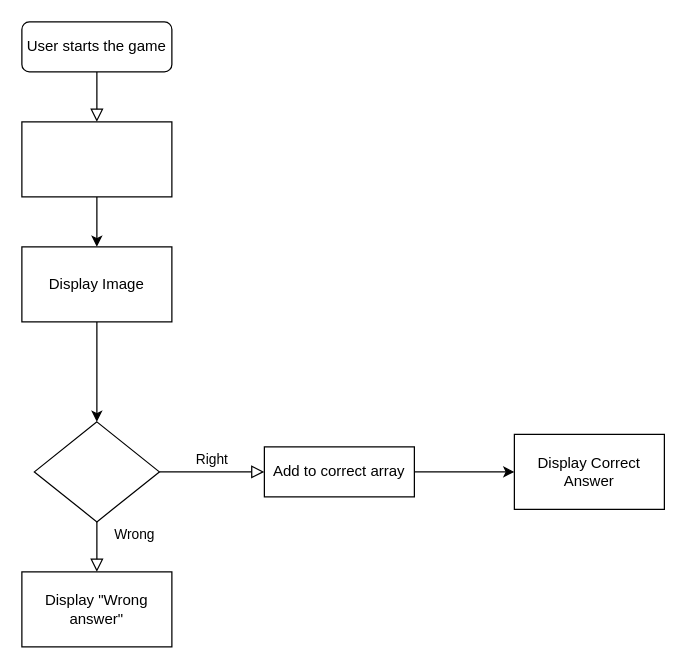
This 686x669 diagram has some shape labels left out. The box of each missing label's shape, as (x1, y1, x2, y2) in pixels:
Generate a random number between 1 and 10: (21, 121, 172, 197)
User Guesses: (33, 421, 159, 522)
